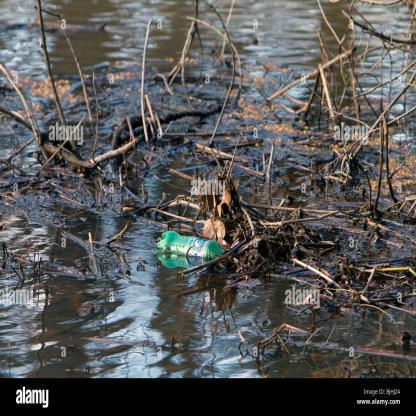plastic bottle: (159, 232, 230, 259)
